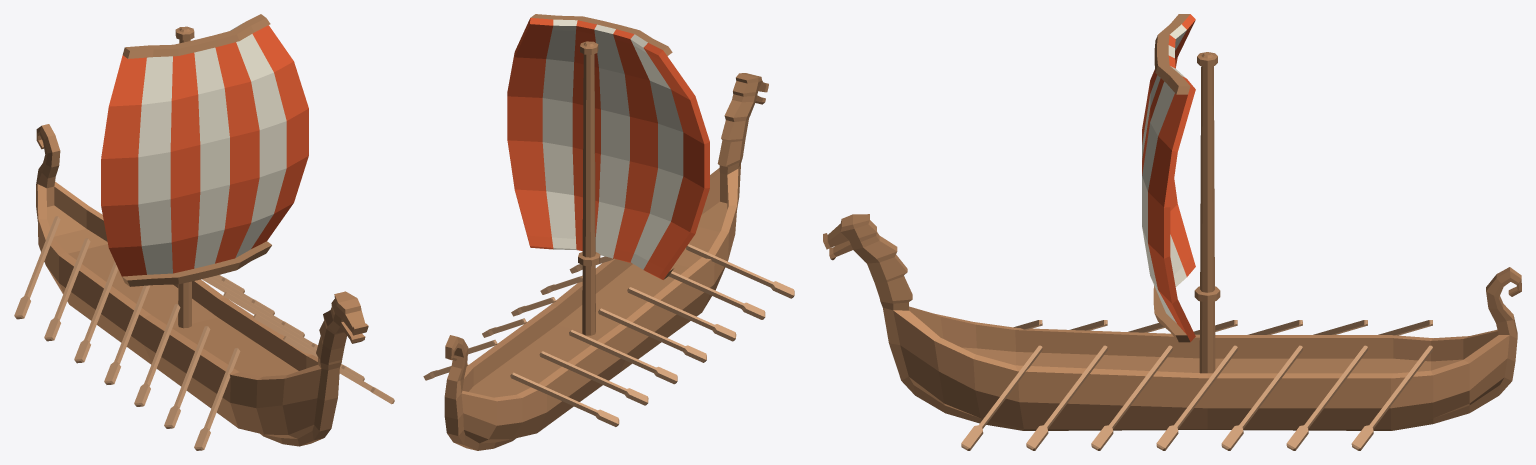
Rendered from wreck-longboat.glb.
The picture shows the model from 3 angles, left to right: view 1: azimuth 30°, elevation 25°; view 2: azimuth 150°, elevation 25°; view 3: azimuth 270°, elevation 25°; orthographic projection. The views are drawn at different scales.
Visible parts, largest first — view 1: sail, port, bow, stern, starboard; view 2: sail, port, stern, bow, starboard; view 3: starboard, bow, port, stern, sail.
Boxes of the visible parts, left/top/right/bottom form: sail: left=101, top=14, right=308, bottom=286; port: left=44, top=27, right=298, bottom=435; bow: left=194, top=291, right=394, bottom=450; stern: left=14, top=124, right=222, bottom=320; starboard: left=173, top=26, right=364, bottom=380; sail: left=507, top=14, right=709, bottom=279; port: left=474, top=42, right=765, bottom=440; stern: left=423, top=335, right=626, bottom=450; bow: left=675, top=73, right=794, bottom=311; starboard: left=468, top=41, right=632, bottom=385; starboard: left=1015, top=52, right=1393, bottom=450; bow: left=823, top=214, right=1042, bottom=450; port: left=1015, top=52, right=1393, bottom=373; stern: left=1304, top=267, right=1521, bottom=450; sail: left=1142, top=14, right=1195, bottom=342.
Bounding box in the file's own units: 5.6 × 8.96 × 15.
